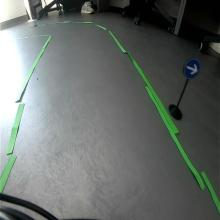right: (183, 56, 201, 80)
